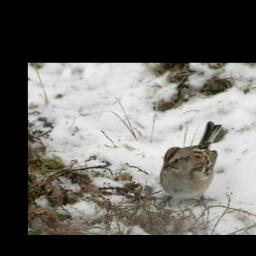Sparrow: (155, 119, 227, 209)
